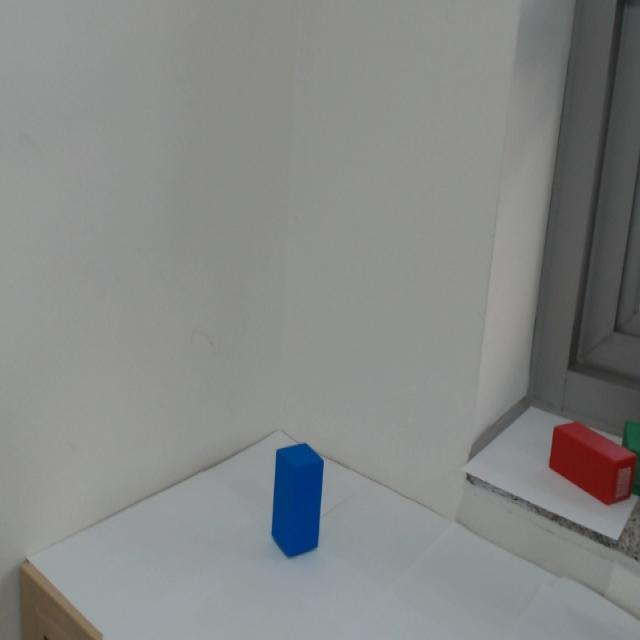cube: (266, 423, 332, 578)
